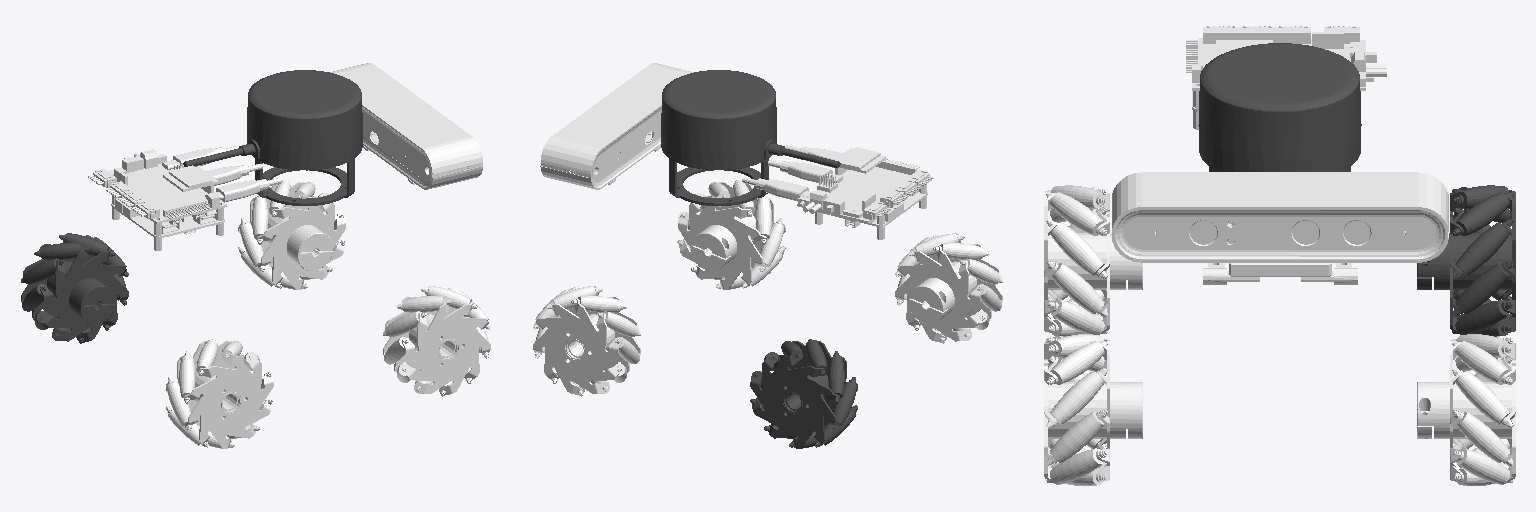
URDF robot description (mini_mec_robot):
<?xml version="1.0" encoding="utf-8"?>
<!-- This URDF was automatically created by SolidWorks to URDF Exporter! Originally created by [author] ([email redacted]) 
     Commit Version: 1.6.0-4-g7f85cfe  Build Version: 1.6.7995.38578
     For more information, please see http://wiki.ros.org/sw_urdf_exporter -->
<robot
  name="mini_mec_robot">
  <link
    name="base_link">
    <inertial>
      <origin
        xyz="-0.0176284106363391 -0.0212065922126046 0.00705733641663178"
        rpy="0 0 0" />
      <mass
        value="0.679600252032273" />
      <inertia
        ixx="0.000516343641288595"
        ixy="-1.73660367632987E-06"
        ixz="-4.24522803621893E-07"
        iyy="0.000760747638398563"
        iyz="-2.61267723541993E-07"
        izz="0.00116528983259254" />
    </inertial>
    <visual>
      <origin
        xyz="0 0 0"
        rpy="0 0 0" />
      <geometry>
        <mesh
          filename="package://wheeltec_robot_urdf/meshes/mini_mec_robot_meshes/base_link.STL" />
      </geometry>
      <material
        name="">
        <color
          rgba="0.741176470588235 0.901960784313726 0.956862745098039 1" />
      </material>
    </visual>
    <collision>
      <origin
        xyz="0 0 0"
        rpy="0 0 0" />
      <geometry>
        <mesh
          filename="package://wheeltec_robot_urdf/meshes/mini_mec_robot_meshes/base_link.STL" />
      </geometry>
    </collision>
  </link>
  <link
    name="lf_wheel_link">
    <inertial>
      <origin
        xyz="-4.83478163075103E-05 -0.00361887872849199 2.36591801651906E-05"
        rpy="0 0 0" />
      <mass
        value="0.0567325127195103" />
      <inertia
        ixx="2.10255136964011E-05"
        ixy="-1.1023479242183E-08"
        ixz="3.75231887164477E-09"
        iyy="3.39275378717873E-05"
        iyz="-8.51218162606208E-10"
        izz="2.10059722946959E-05" />
    </inertial>
    <visual>
      <origin
        xyz="0 0 0"
        rpy="0 0 0" />
      <geometry>
        <mesh
          filename="package://wheeltec_robot_urdf/meshes/mini_mec_robot_meshes/lf_wheel_link.STL" />
      </geometry>
      <material
        name="">
        <color
          rgba="1 1 1 1" />
      </material>
    </visual>
    <collision>
      <origin
        xyz="0 0 0"
        rpy="0 0 0" />
      <geometry>
        <mesh
          filename="package://wheeltec_robot_urdf/meshes/mini_mec_robot_meshes/lf_wheel_link.STL" />
      </geometry>
    </collision>
  </link>
  <joint
    name="lf_wheel_joint"
    type="continuous">
    <origin
      xyz="0.0788906867829701 0.099101092708038 -0.0363"
      rpy="0 0 0" />
    <parent
      link="base_link" />
    <child
      link="lf_wheel_link" />
    <axis
      xyz="0 1 0" />
  </joint>
  <link
    name="lb_wheel_link">
    <inertial>
      <origin
        xyz="-4.83408897442028E-05 -0.00361520799598775 2.36829907694566E-05"
        rpy="0 0 0" />
      <mass
        value="0.0567315810184634" />
      <inertia
        ixx="2.1025058702354E-05"
        ixy="-1.10244929776427E-08"
        ixz="3.74419002283728E-09"
        iyy="3.39268129235868E-05"
        iyz="-8.4580757766921E-10"
        izz="2.10055351725051E-05" />
    </inertial>
    <visual>
      <origin
        xyz="0 0 0"
        rpy="0 0 0" />
      <geometry>
        <mesh
          filename="package://wheeltec_robot_urdf/meshes/mini_mec_robot_meshes/lb_wheel_link.STL" />
      </geometry>
      <material
        name="">
        <color
          rgba="0.376470588235294 0.376470588235294 0.376470588235294 1" />
      </material>
    </visual>
    <collision>
      <origin
        xyz="0 0 0"
        rpy="0 0 0" />
      <geometry>
        <mesh
          filename="package://wheeltec_robot_urdf/meshes/mini_mec_robot_meshes/lb_wheel_link.STL" />
      </geometry>
    </collision>
  </link>
  <joint
    name="lb_wheel_joint"
    type="continuous">
    <origin
      xyz="-0.0930093132170299 0.0990810927080387 -0.0363"
      rpy="0 0 0" />
    <parent
      link="base_link" />
    <child
      link="lb_wheel_link" />
    <axis
      xyz="0 1 0" />
  </joint>
  <link
    name="rb_wheel_link">
    <inertial>
      <origin
        xyz="4.83478187074671E-05 0.00361887872849198 2.36591801651906E-05"
        rpy="0 0 0" />
      <mass
        value="0.0567325127195101" />
      <inertia
        ixx="2.1025513696401E-05"
        ixy="-1.1023479242199E-08"
        ixz="-3.7523188716606E-09"
        iyy="3.39275378717872E-05"
        iyz="8.5121816261345E-10"
        izz="2.10059722946958E-05" />
    </inertial>
    <visual>
      <origin
        xyz="0 0 0"
        rpy="0 0 0" />
      <geometry>
        <mesh
          filename="package://wheeltec_robot_urdf/meshes/mini_mec_robot_meshes/rb_wheel_link.STL" />
      </geometry>
      <material
        name="">
        <color
          rgba="1 1 1 1" />
      </material>
    </visual>
    <collision>
      <origin
        xyz="0 0 0"
        rpy="0 0 0" />
      <geometry>
        <mesh
          filename="package://wheeltec_robot_urdf/meshes/mini_mec_robot_meshes/rb_wheel_link.STL" />
      </geometry>
    </collision>
  </link>
  <joint
    name="rb_wheel_joint"
    type="continuous">
    <origin
      xyz="-0.0930093132170305 -0.0989229072919614 -0.0363"
      rpy="0 0 0" />
    <parent
      link="base_link" />
    <child
      link="rb_wheel_link" />
    <axis
      xyz="0 1 0" />
  </joint>
  <link
    name="rf_wheel_link">
    <inertial>
      <origin
        xyz="4.83408906942385E-05 0.0036152079959877 2.36829907694774E-05"
        rpy="0 0 0" />
      <mass
        value="0.0567315810184633" />
      <inertia
        ixx="2.1025058702354E-05"
        ixy="-1.10244929776398E-08"
        ixz="-3.74419002285257E-09"
        iyy="3.39268129235868E-05"
        iyz="8.45807577677436E-10"
        izz="2.10055351725051E-05" />
    </inertial>
    <visual>
      <origin
        xyz="0 0 0"
        rpy="0 0 0" />
      <geometry>
        <mesh
          filename="package://wheeltec_robot_urdf/meshes/mini_mec_robot_meshes/rf_wheel_link.STL" />
      </geometry>
      <material
        name="">
        <color
          rgba="1 1 1 1" />
      </material>
    </visual>
    <collision>
      <origin
        xyz="0 0 0"
        rpy="0 0 0" />
      <geometry>
        <mesh
          filename="package://wheeltec_robot_urdf/meshes/mini_mec_robot_meshes/rf_wheel_link.STL" />
      </geometry>
    </collision>
  </link>
  <joint
    name="rf_wheel_joint"
    type="continuous">
    <origin
      xyz="0.0788906867829694 -0.098902907291962 -0.0363"
      rpy="0 0 0" />
    <parent
      link="base_link" />
    <child
      link="rf_wheel_link" />
    <axis
      xyz="0 1 0" />
  </joint>
  <link
    name="controller_link">
    <inertial>
      <origin
        xyz="-0.017877242180046 0.0389174701067245 0.0213653101693057"
        rpy="0 0 0" />
      <mass
        value="0.0391683061674007" />
      <inertia
        ixx="2.20183096868336E-05"
        ixy="1.2570811872774E-06"
        ixz="1.53420711428688E-09"
        iyy="2.40630534171015E-05"
        iyz="2.2778658628168E-07"
        izz="4.51084285172614E-05" />
    </inertial>
    <visual>
      <origin
        xyz="0 0 0"
        rpy="0 0 0" />
      <geometry>
        <mesh
          filename="package://wheeltec_robot_urdf/meshes/mini_mec_robot_meshes/controller_link.STL" />
      </geometry>
      <material
        name="">
        <color
          rgba="1 1 1 1" />
      </material>
    </visual>
    <collision>
      <origin
        xyz="0 0 0"
        rpy="0 0 0" />
      <geometry>
        <mesh
          filename="package://wheeltec_robot_urdf/meshes/mini_mec_robot_meshes/controller_link.STL" />
      </geometry>
    </collision>
  </link>
  <joint
    name="controller_joint"
    type="fixed">
    <origin
      xyz="-0.0556343132168706 -0.0407821141826353 0.0519999999999999"
      rpy="0 0 0" />
    <parent
      link="base_link" />
    <child
      link="controller_link" />
    <axis
      xyz="0 0 0" />
  </joint>
  <link
    name="laser_link">
    <inertial>
      <origin
        xyz="0.001964586310461 -3.5789542839353E-06 -0.00020183163277164"
        rpy="0 0 0" />
      <mass
        value="0.0477519163775583" />
      <inertia
        ixx="3.38461999766101E-05"
        ixy="-2.19897141949925E-09"
        ixz="1.07118468648131E-06"
        iyy="3.94150415881323E-05"
        iyz="6.83978165807927E-10"
        izz="5.60787042136425E-05" />
    </inertial>
    <visual>
      <origin
        xyz="0 0 0"
        rpy="0 0 0" />
      <geometry>
        <mesh
          filename="package://wheeltec_robot_urdf/meshes/mini_mec_robot_meshes/laser.STL" />
      </geometry>
      <material
        name="">
        <color
          rgba="0.376470588235294 0.376470588235294 0.376470588235294 1" />
      </material>
    </visual>
    <collision>
      <origin
        xyz="0 0 0"
        rpy="0 0 0" />
      <geometry>
        <mesh
          filename="package://wheeltec_robot_urdf/meshes/mini_mec_robot_meshes/laser.STL" />
      </geometry>
    </collision>
  </link>
  <joint
    name="laser_joint"
    type="fixed">
    <origin
      xyz="0.0316310367407428 9.05810809802502E-05 0.095024183741431"
      rpy="0 0 3.14159265358979" />
    <parent
      link="base_link" />
    <child
      link="laser_link" />
    <axis
      xyz="0 0 0" />
  </joint>
  <link
    name="camera_link">
    <inertial>
      <origin
        xyz="3.50190324457239E-07 9.10362272514738E-08 1.0762423485744E-07"
        rpy="0 0 0" />
      <mass
        value="0.0559842512080123" />
      <inertia
        ixx="0.000130810959339217"
        ixy="1.20255128206215E-07"
        ixz="1.62335437080132E-06"
        iyy="1.911486349679E-05"
        iyz="-2.80016755799908E-08"
        izz="0.00013138746952303" />
    </inertial>
    <visual>
      <origin
        xyz="0 0 0"
        rpy="0 0 0" />
      <geometry>
        <mesh
          filename="package://wheeltec_robot_urdf/meshes/mini_mec_robot_meshes/camera_link.STL" />
      </geometry>
      <material
        name="">
        <color
          rgba="1 1 1 1" />
      </material>
    </visual>
    <collision>
      <origin
        xyz="0 0 0"
        rpy="0 0 0" />
      <geometry>
        <mesh
          filename="package://wheeltec_robot_urdf/meshes/mini_mec_robot_meshes/camera_link.STL" />
      </geometry>
    </collision>
  </link>
  <joint
    name="camera_joint"
    type="fixed">
    <origin
      xyz="0.10709468678297 0.000317092708037946 0.076204"
      rpy="0 0 0" />
    <parent
      link="base_link" />
    <child
      link="camera_link" />
    <axis
      xyz="0 0 0" />
  </joint>
</robot>

--- Facts derived from the render (not from the file) ---
3 views of the same robot in one strip: view 1: azimuth 30°, elevation 25°; view 2: azimuth 150°, elevation 25°; view 3: azimuth 270°, elevation 25° (orthographic).
Robot: mini_mec_robot — 8 links, 7 joints (4 continuous, 3 fixed); root link base_link; default pose: all joints at 0.
Visible links, largest first — view 1: laser_link, controller_link, camera_link, lb_wheel_link, rf_wheel_link, rb_wheel_link, lf_wheel_link; view 2: laser_link, camera_link, controller_link, lf_wheel_link, rb_wheel_link, lb_wheel_link, rf_wheel_link; view 3: camera_link, laser_link, rf_wheel_link, lf_wheel_link, rb_wheel_link, lb_wheel_link, controller_link.
Boxes of the visible links, x1,y1,x2,y2 form: laser_link: (183,70,362,205); controller_link: (88,146,282,250); camera_link: (330,63,482,189); lb_wheel_link: (21,233,128,343); rf_wheel_link: (383,286,490,396); rb_wheel_link: (166,339,273,448); lf_wheel_link: (238,180,346,289); laser_link: (661,70,840,205); camera_link: (540,63,693,189); controller_link: (742,145,933,239); lf_wheel_link: (533,286,640,396); rb_wheel_link: (895,233,1002,343); lb_wheel_link: (750,339,857,448); rf_wheel_link: (677,180,785,289); camera_link: (1112,172,1448,284); laser_link: (1198,43,1361,171); rf_wheel_link: (1044,334,1142,485); lf_wheel_link: (1417,334,1515,485); rb_wheel_link: (1044,185,1142,336); lb_wheel_link: (1417,185,1515,336); controller_link: (1186,26,1386,129).
Bounding box of the posed robot: 0.2554 × 0.23 × 0.1964 m (x, y, z).
7 mesh visuals loaded from 8 distinct referenced files (7 binary STL); not drawn: 1 (reference not matched to a file when rendering).